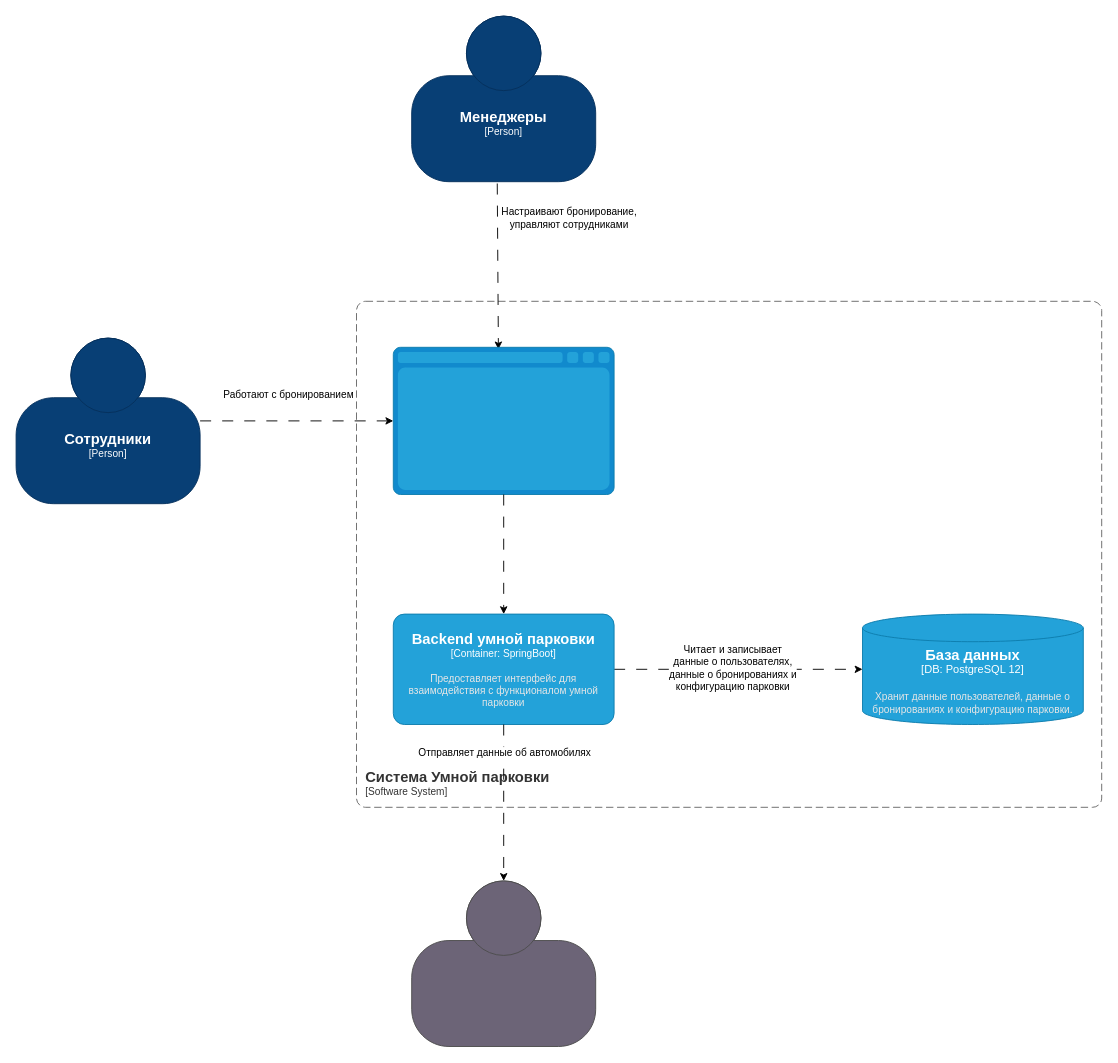
Image size: 1118x1063. Some labels were removed from this diagram. Here are the shapes that lost their labels. From the top down, the centre of each, then its label:
point (503, 420): Веб-интерфейс Умной парковки [: JavaScript]
point (503, 963): Почта охраны [Person]
